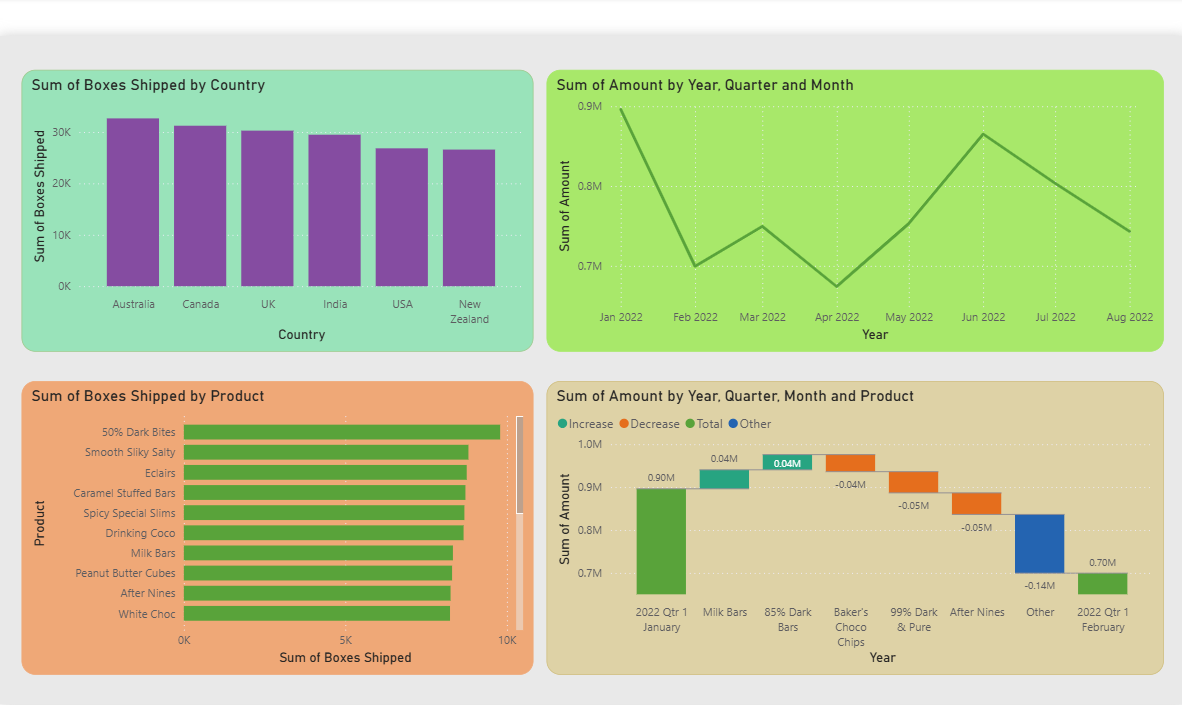

This screenshot's page, from the dashboard's own definition file:
{"tool":"powerbi","page":{"name":"Page 1","canvas":[1280,720],"ordinal":0},"visuals":[{"type":"columnChart","fields":{"Category":["data.Country"],"Y":["Sum(data.Boxes Shipped)"]},"box":[24.6,36.1,552.1,304],"z":0},{"type":"barChart","fields":{"Y":["Sum(data.Boxes Shipped)"],"Category":["data.Product"]},"box":[24.6,371.3,552.1,317.1],"z":1000},{"type":"lineChart","fields":{"Category":["data.Date.Variation.Date Hierarchy.Year","data.Date.Variation.Date Hierarchy.Quarter","data.Date.Variation.Date Hierarchy.Month","data.Date.Variation.Date Hierarchy.Day"],"Y":["Sum(data.Amount)"]},"box":[589.9,36.1,665.5,304],"z":2000},{"type":"waterfallChart","fields":{"Category":["data.Date.Variation.Date Hierarchy.Year","data.Date.Variation.Date Hierarchy.Quarter","data.Date.Variation.Date Hierarchy.Month"],"Breakdown":["data.Product"],"Y":["Sum(data.Amount)"]},"box":[589.9,371.3,665.5,317.1],"z":3000}]}

Visuals, with their boxes on the page's 1280x720 design canvas (x1, y1, x2, y2). These are canvas units, not pixel positions in the 1182x705 screenshot, which may show the page scaled, cropped or inside an application window:
columnChart - data.Country x Sum(data.Boxes Shipped): (25, 36, 577, 340)
barChart - Sum(data.Boxes Shipped) x data.Product: (25, 371, 577, 688)
lineChart - data.Date.Variation.Date Hierarchy.Year x data.Date.Variation.Date Hierarchy.Quarter: (590, 36, 1255, 340)
waterfallChart - data.Date.Variation.Date Hierarchy.Year x data.Date.Variation.Date Hierarchy.Quarter: (590, 371, 1255, 688)
